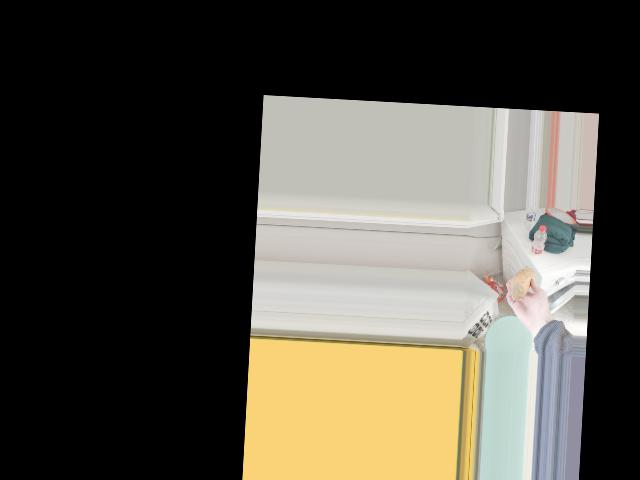sweet_potato: (510, 267, 533, 297)
